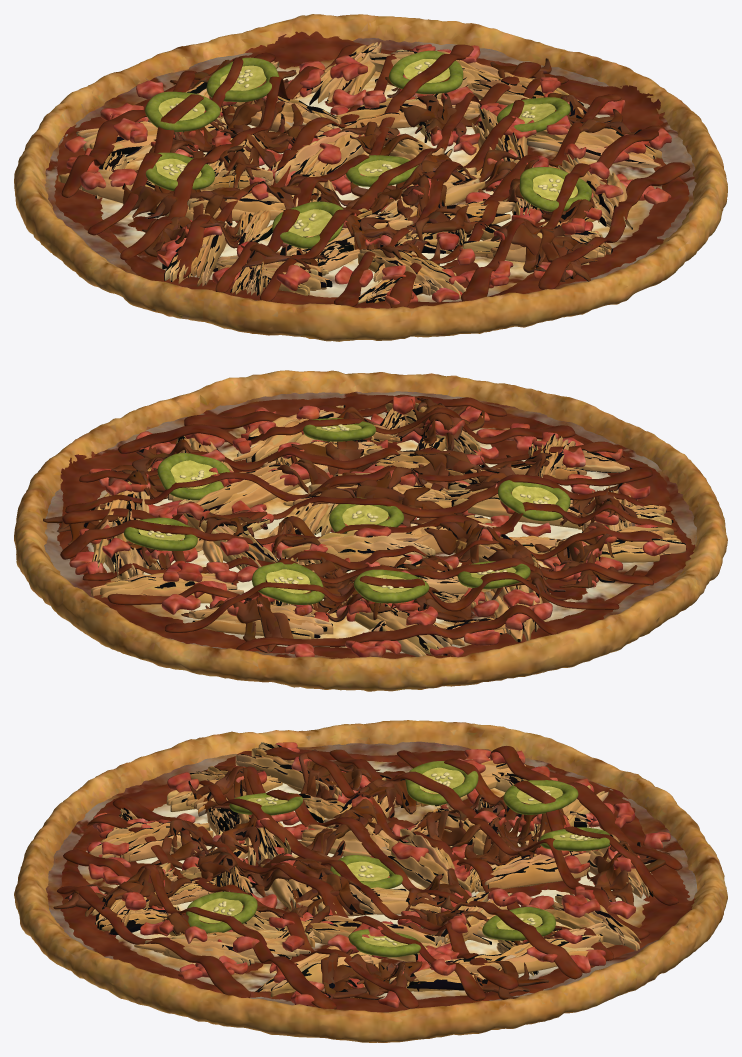
File: bbq-chicken-overload-ultralight.glb
3 views of the same model, one above another, from view 1: azimuth 30°, elevation 25°; view 2: azimuth 150°, elevation 25°; view 3: azimuth 270°, elevation 25° (orthographic).
Visible parts, largest first — view 1: BBQ_Drizzle, Pizza_Crust, Chicken_Cluster_00, Caramelized_Onions, Bacon_Bits, Cheese_Bed, Jalapeno_00.001, Jalapeno_00.002, Jalapeno_00; view 2: BBQ_Drizzle, Pizza_Crust, Chicken_Cluster_00, Caramelized_Onions, Bacon_Bits, Cheese_Bed, Jalapeno_00.001, Jalapeno_00.002, Jalapeno_00; view 3: Pizza_Crust, BBQ_Drizzle, Chicken_Cluster_00, Caramelized_Onions, Bacon_Bits, Cheese_Bed, Jalapeno_00.001, Jalapeno_00.002, Jalapeno_00.
Part boxes in pixels (x1,y1,x2,y2): BBQ_Drizzle: (54,31,690,308); Pizza_Crust: (14,14,727,341); Chicken_Cluster_00: (58,42,661,303); Caramelized_Onions: (122,57,641,281); Bacon_Bits: (64,44,671,305); Cheese_Bed: (44,38,696,302); Jalapeno_00.001: (145,50,591,248); Jalapeno_00.002: (155,59,577,236); Jalapeno_00: (163,61,560,231); BBQ_Drizzle: (57,394,695,658); Pizza_Crust: (14,370,727,691); Chicken_Cluster_00: (91,402,686,656); Caramelized_Onions: (43,397,637,652); Bacon_Bits: (69,396,669,657); Cheese_Bed: (44,391,696,658); Jalapeno_00.001: (124,418,570,604); Jalapeno_00.002: (138,424,558,593); Jalapeno_00: (147,424,549,589); Pizza_Crust: (14,720,727,1042); BBQ_Drizzle: (57,746,695,1012); Chicken_Cluster_00: (89,742,653,997); Caramelized_Onions: (53,749,669,999); Bacon_Bits: (68,742,670,1007); Cheese_Bed: (45,741,697,1006); Jalapeno_00.001: (186,761,610,957); Jalapeno_00.002: (198,767,598,946); Jalapeno_00: (209,772,591,945).
Size of the model in its own units: 2.38 by 0.2202 by 2.4.
Materials: 9 (8 with a texture image).
